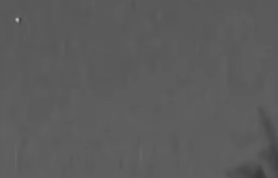Target: (16, 18, 19, 23)
